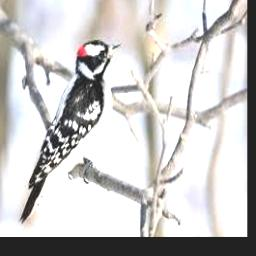Woodpecker: (19, 40, 124, 224)
